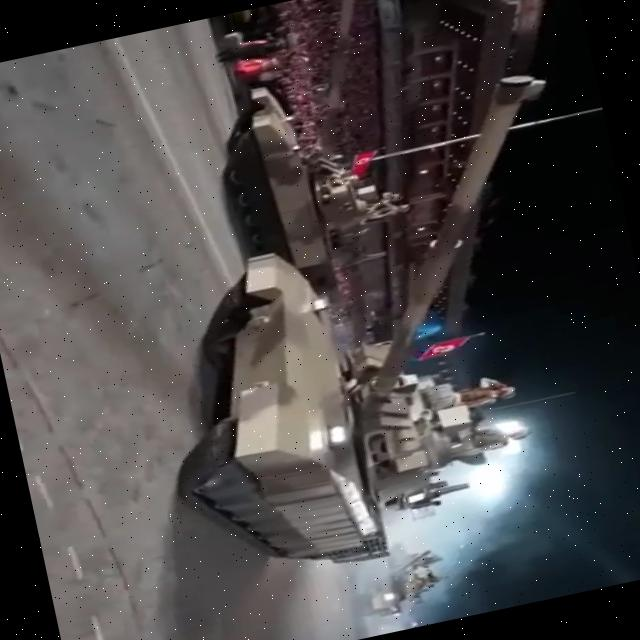north tank: (102, 66, 640, 597), (159, 15, 456, 342), (326, 527, 470, 633)
